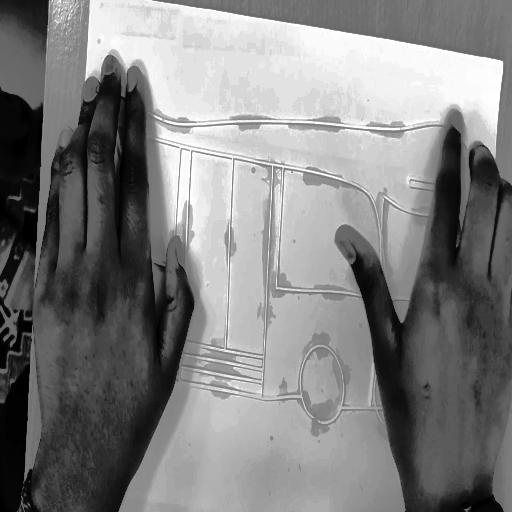bus: (42, 49, 512, 458)
top_right: (500, 51, 506, 69)
